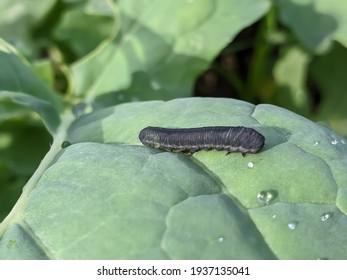Insects: (138, 118, 267, 159)
